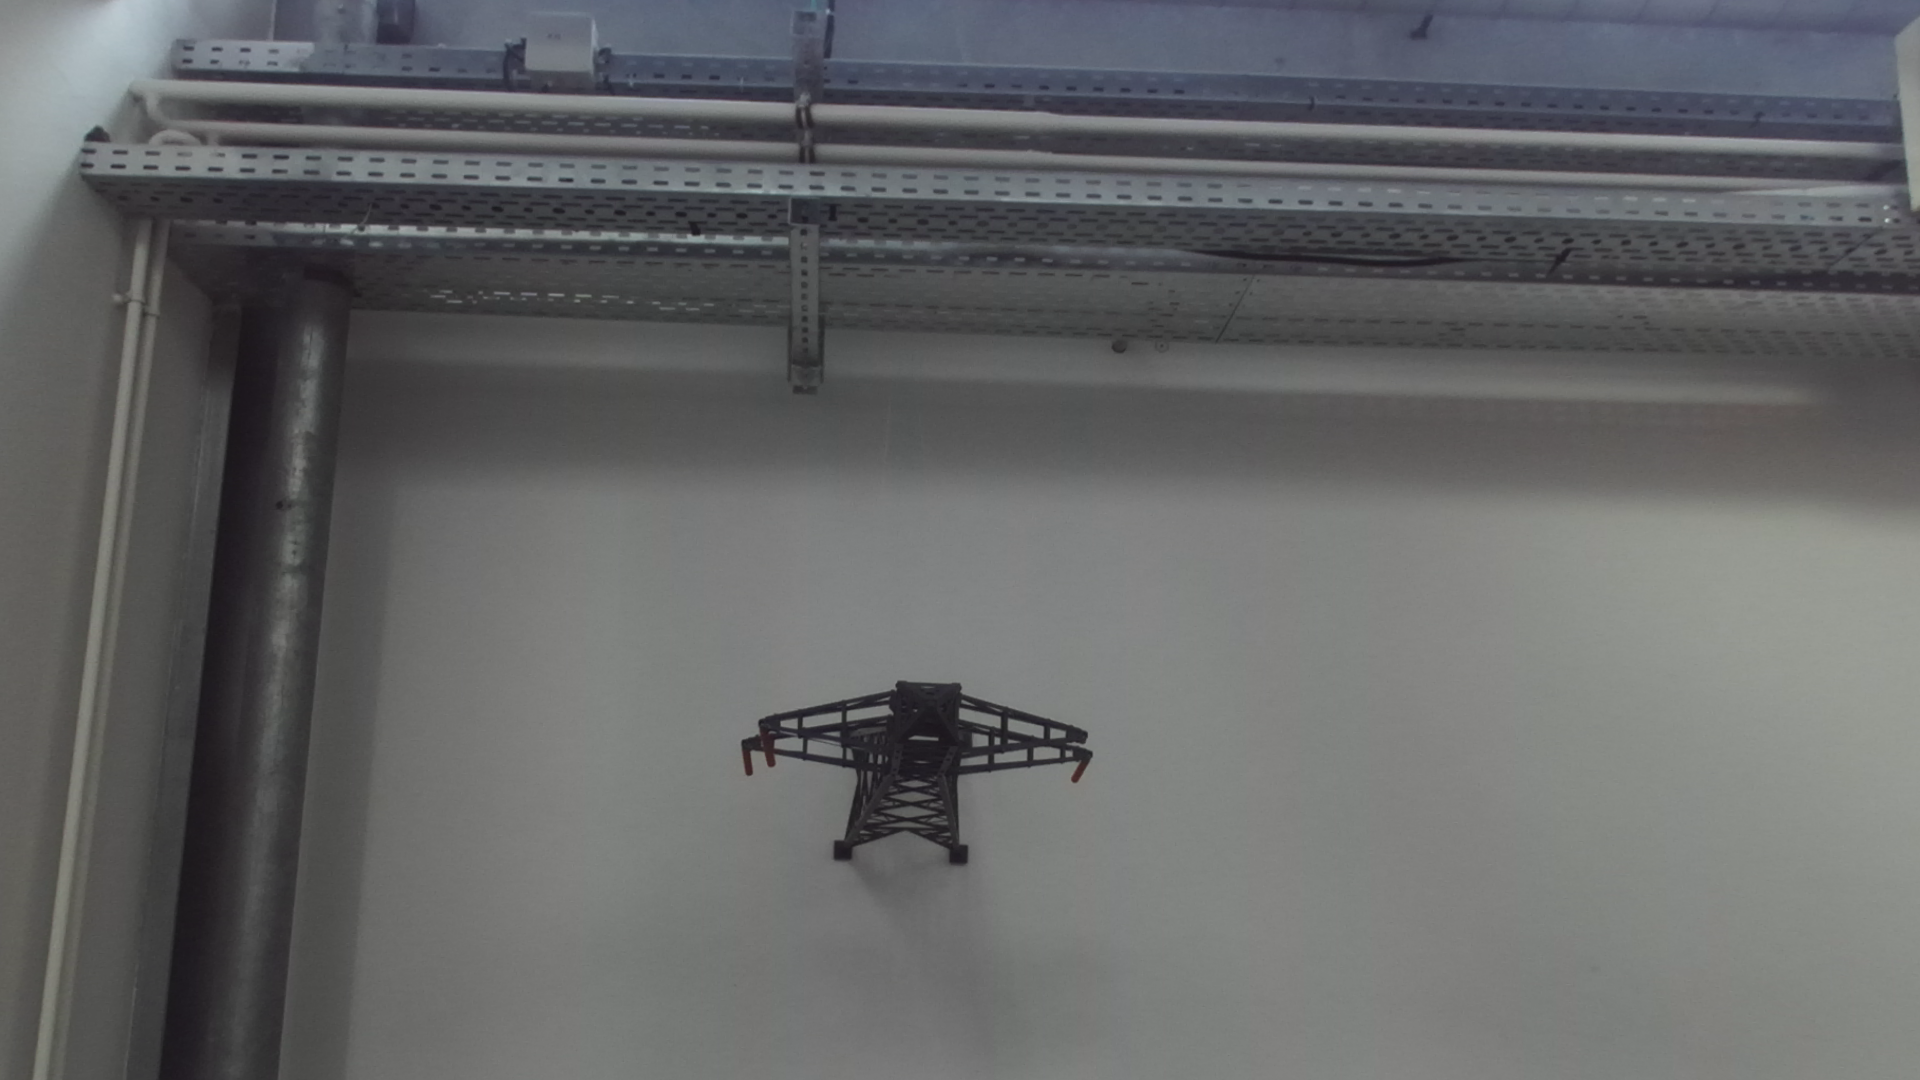pylon_phy: (756, 679, 1091, 752)
